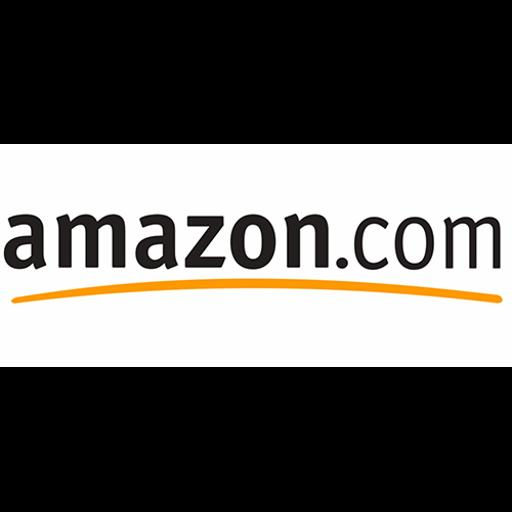Amazon: (0, 144, 512, 367)
